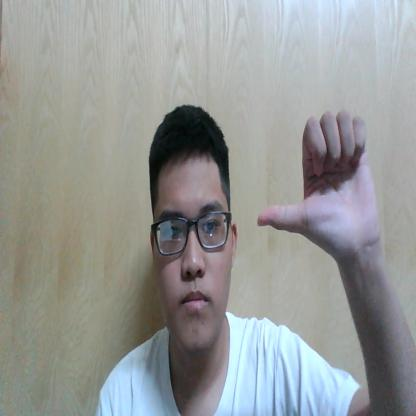right: (257, 110, 378, 252)
